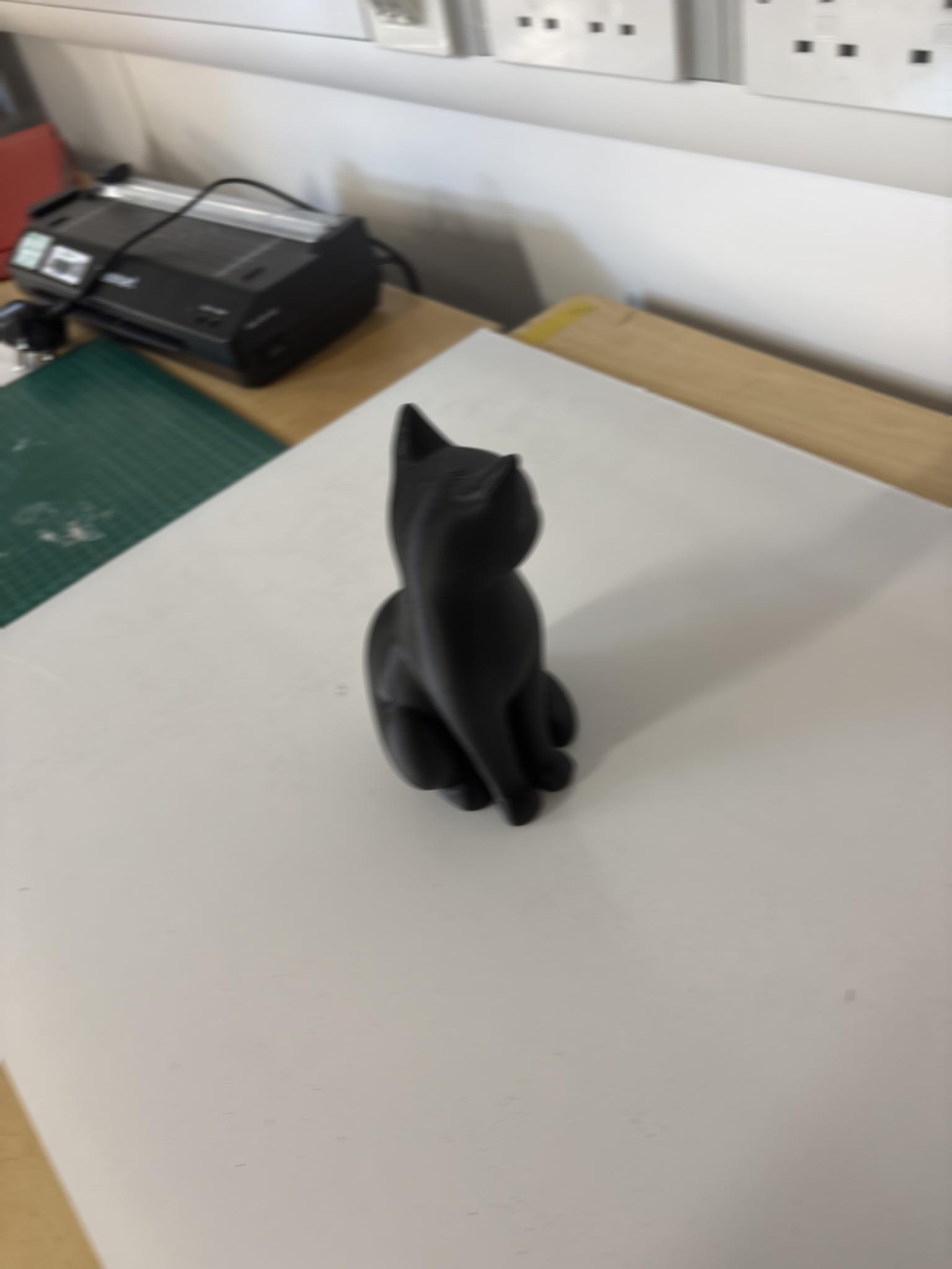cat: (366, 404, 576, 823)
